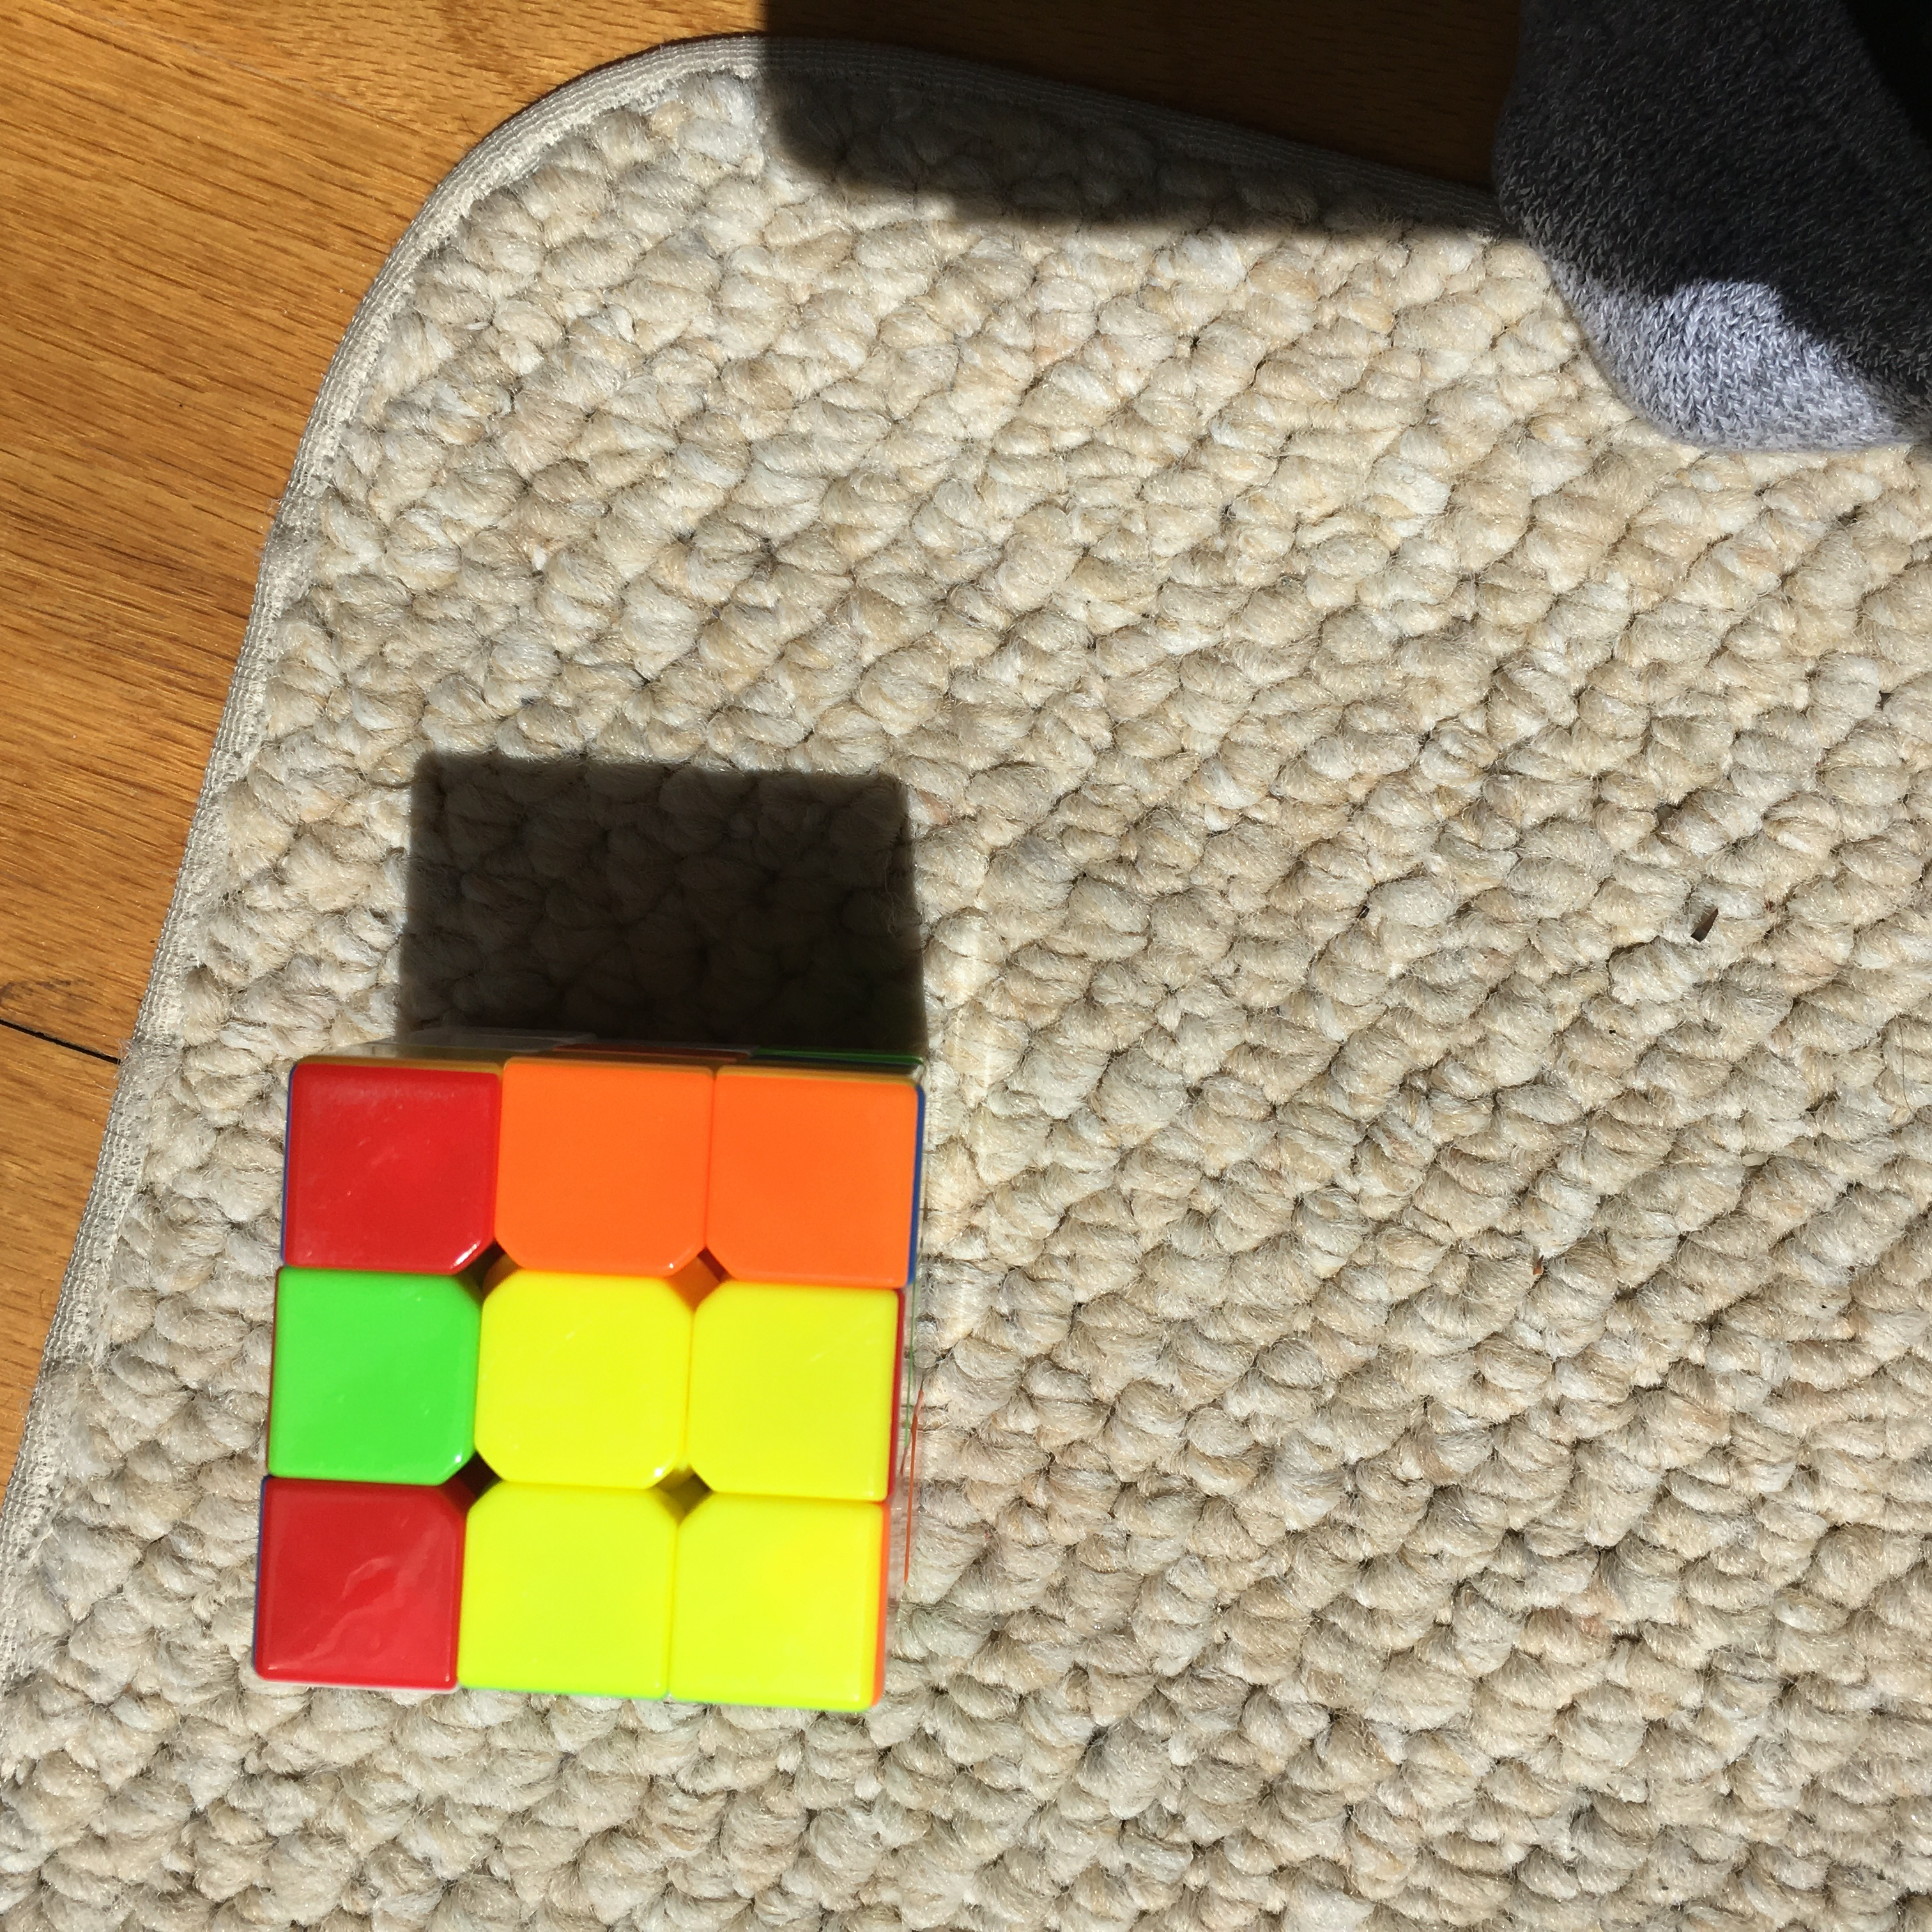face: (243, 1056, 904, 1717)
